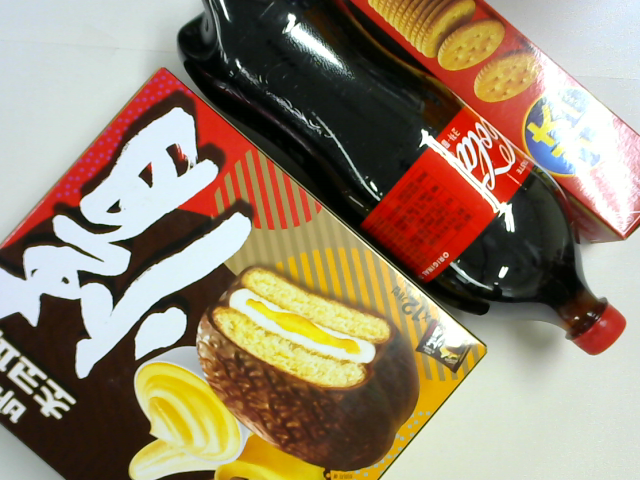Choco_Pie_Banana: (1, 68, 500, 475)
Coca_Cola_1.5L: (172, 1, 631, 369)
Ritz_Cracker: (344, 6, 640, 231)
